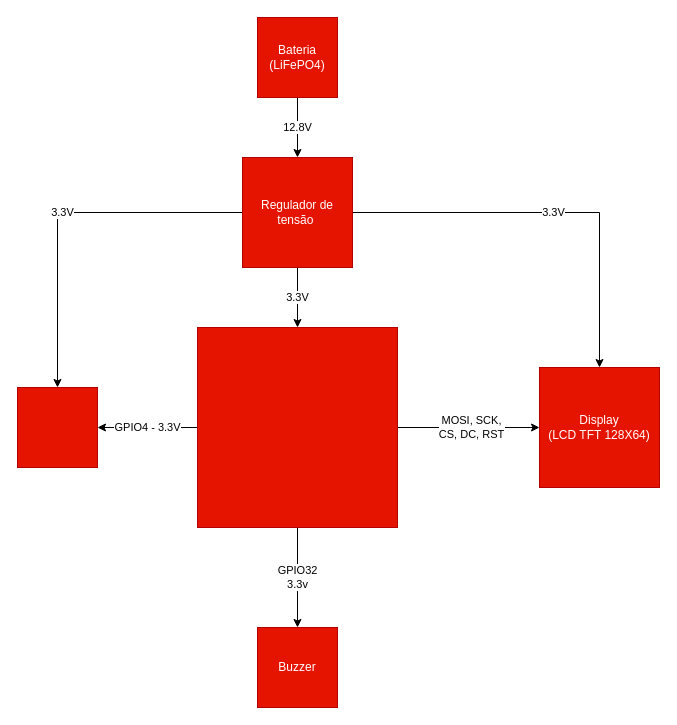
Image size: 677x725. Some labels were removed from this diagram. Each missing label, with the box of its shape:
MCU (ESP32): (196, 326, 398, 528)
Sensor de temperatura 0°C a 100°C: (16, 386, 98, 468)
